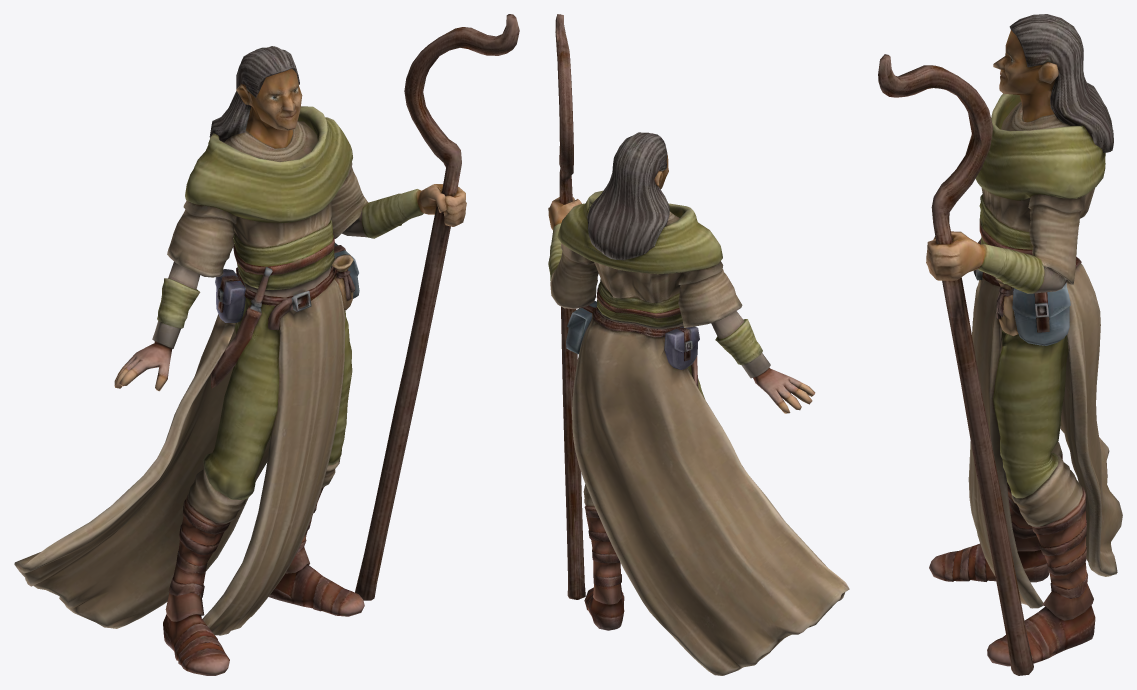
The model's file is MZ4250 - Druid Human Male 01.glb.
The picture shows the model from 3 angles, left to right: view 1: azimuth 30°, elevation 25°; view 2: azimuth 150°, elevation 25°; view 3: azimuth 270°, elevation 25°; orthographic projection. The views are drawn at different scales.
Parts seen in each view (by area): view 1: DruidMale01; view 2: DruidMale01; view 3: DruidMale01.
Boxes of the visible parts, <box> form: DruidMale01: <box>14,14,519,675</box>; DruidMale01: <box>548,14,849,675</box>; DruidMale01: <box>878,14,1122,675</box>.
Size of the model in its own units: 0.7923 by 1.12 by 0.371.
1 material, 1 textured.
